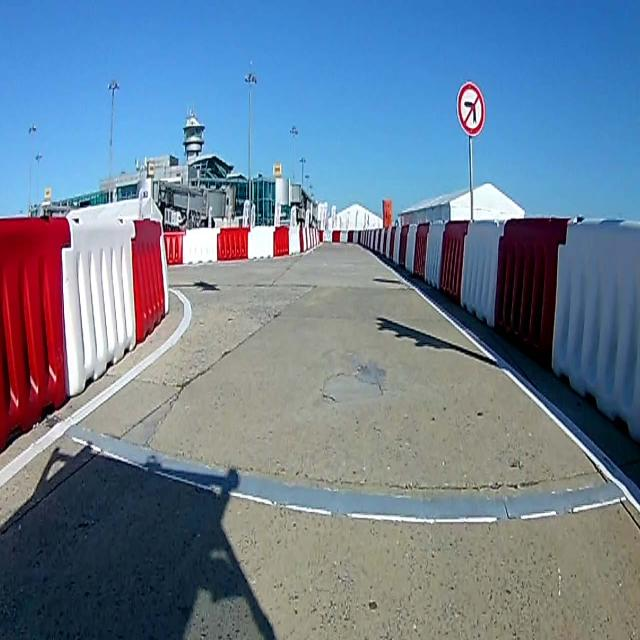soladonulmez: (458, 84, 484, 135)
